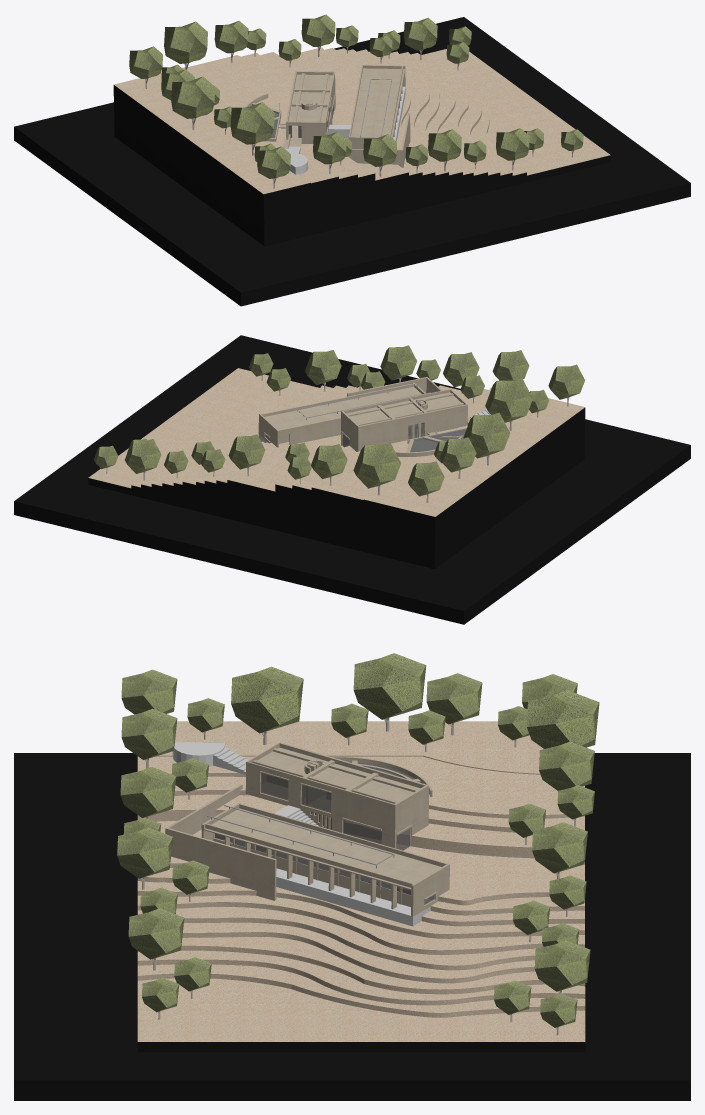
3 views of the same model, one above another, from view 1: azimuth 30°, elevation 25°; view 2: azimuth 150°, elevation 25°; view 3: azimuth 270°, elevation 25° (orthographic). The views are drawn at different scales.
Parts seen in each view (by area): view 1: Mesh2_Color_M09_0, Mesh33_Carpet_Berber_Multi_0, Mesh33_Color_M09_0, Mesh33__Concrete_Form_4x8_2_0, Mesh23_Olive_0, Mesh24_Olive_0, Mesh18_Olive_0, Mesh11_Olive_0, Mesh3_Olive_0, Mesh4_Olive_0, Mesh7_Olive_0, Mesh10_Olive_0 (+6 smaller); view 2: Mesh2_Color_M09_0, Mesh33_Carpet_Berber_Multi_0, Mesh33_Color_M09_0, Mesh33__Concrete_Form_4x8_2_0, Mesh18_Olive_0, Mesh23_Olive_0, Mesh24_Olive_0, Mesh10_Olive_0, Mesh13_Olive_0, Mesh3_Olive_0, Mesh8_Olive_0, Mesh4_Olive_0 (+7 smaller); view 3: Mesh2_Color_M09_0, Mesh33_Carpet_Berber_Multi_0, Mesh33__Concrete_Form_4x8_2_0, Mesh33_Color_M09_0, Mesh33_Color_M05_0, Mesh23_Olive_0, Mesh24_Olive_0, Mesh18_Olive_0, Mesh33_Translucent_Glass_Safety_0, Mesh10_Olive_0, Mesh7_Olive_0, Mesh11_Olive_0 (+23 smaller).
Boxes of the visible parts, <box> form: Mesh2_Color_M09_0: <box>14,17,690,306</box>; Mesh33_Carpet_Berber_Multi_0: <box>114,47,610,194</box>; Mesh33_Color_M09_0: <box>113,85,610,246</box>; Mesh33__Concrete_Form_4x8_2_0: <box>246,65,410,167</box>; Mesh23_Olive_0: <box>230,102,274,144</box>; Mesh24_Olive_0: <box>171,76,215,118</box>; Mesh18_Olive_0: <box>164,21,207,63</box>; Mesh11_Olive_0: <box>301,14,335,46</box>; Mesh3_Olive_0: <box>496,128,529,160</box>; Mesh4_Olive_0: <box>257,146,290,178</box>; Mesh7_Olive_0: <box>428,129,461,161</box>; Mesh10_Olive_0: <box>403,17,437,50</box>; Mesh2_Color_M09_0: <box>14,335,690,624</box>; Mesh33_Carpet_Berber_Multi_0: <box>88,368,584,516</box>; Mesh33_Color_M09_0: <box>88,407,585,568</box>; Mesh33__Concrete_Form_4x8_2_0: <box>258,377,470,456</box>; Mesh18_Olive_0: <box>353,443,401,488</box>; Mesh23_Olive_0: <box>485,378,532,422</box>; Mesh24_Olive_0: <box>463,412,510,458</box>; Mesh10_Olive_0: <box>125,439,161,473</box>; Mesh13_Olive_0: <box>311,444,347,478</box>; Mesh3_Olive_0: <box>305,350,341,384</box>; Mesh8_Olive_0: <box>408,461,444,496</box>; Mesh4_Olive_0: <box>548,364,584,399</box>; Mesh2_Color_M09_0: <box>14,753,690,1100</box>; Mesh33_Carpet_Berber_Multi_0: <box>137,721,585,1041</box>; Mesh33__Concrete_Form_4x8_2_0: <box>165,742,449,916</box>; Mesh33_Color_M09_0: <box>137,1042,585,1052</box>; Mesh33_Color_M05_0: <box>172,742,430,926</box>; Mesh23_Olive_0: <box>231,666,303,733</box>; Mesh24_Olive_0: <box>353,653,426,719</box>; Mesh18_Olive_0: <box>527,690,599,748</box>; Mesh33_Translucent_Glass_Safety_0: <box>215,762,434,904</box>; Mesh10_Olive_0: <box>534,940,590,991</box>; Mesh7_Olive_0: <box>117,827,172,878</box>; Mesh11_Olive_0: <box>532,822,587,873</box>.
Size of the model in its own units: 73.45 by 17.93 by 64.15.
11 materials, 4 textured.
